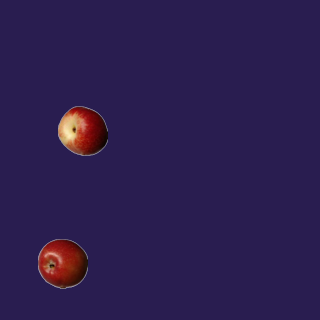Apple Braeburn: (37, 238, 87, 288)
Nectarine: (57, 105, 107, 155)
